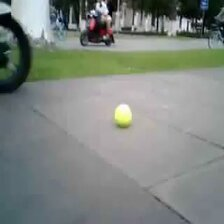tennis: (114, 104, 132, 128)
